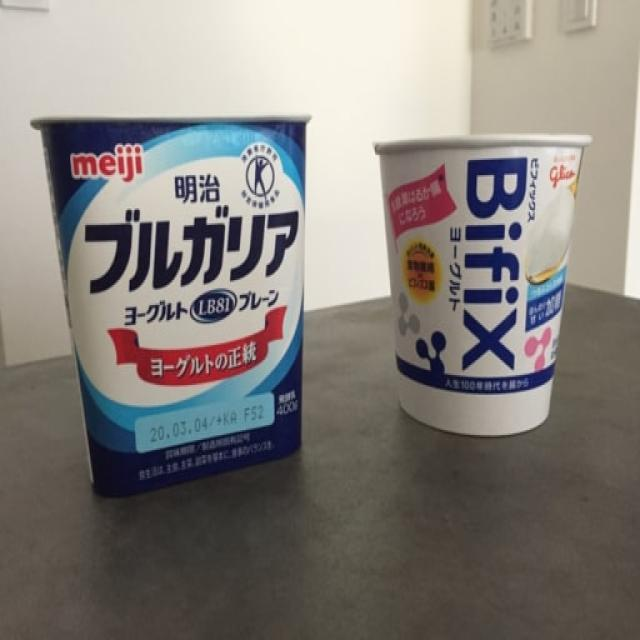plastic: (25, 98, 322, 491), (368, 121, 588, 445)
